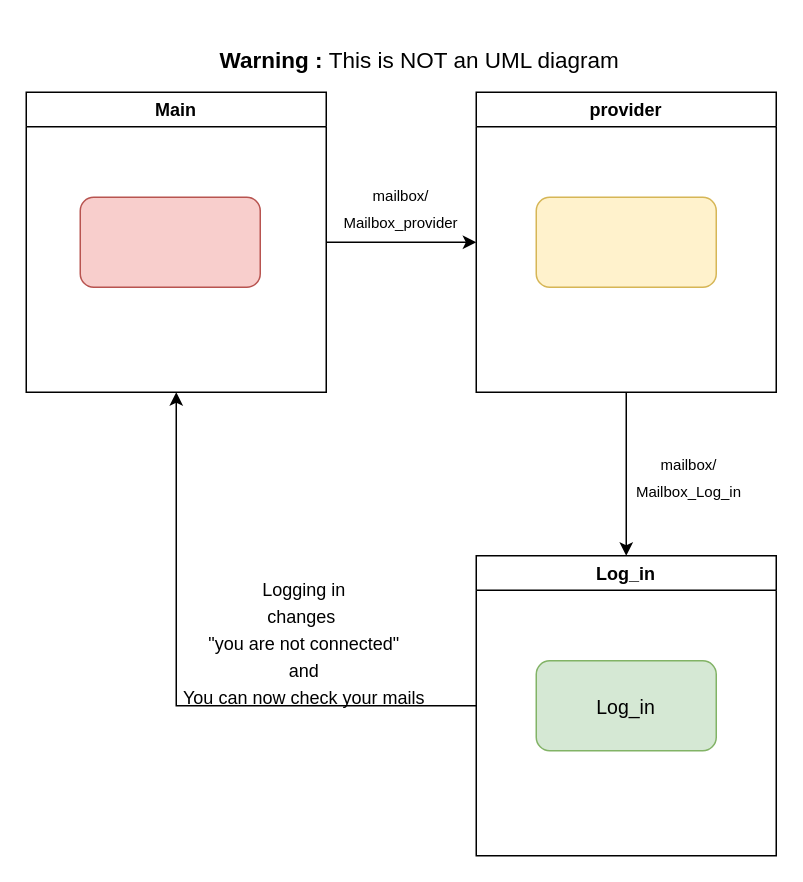
This 803x882 diagram has some shape labels left out. The shapes that lost their labels are listed below. From the top down, each one's centre as x and y in pixels, then its label:
At (x=169, y=241): "Select your MailBox".
At (x=625, y=241): "Select MailBox Provider".
